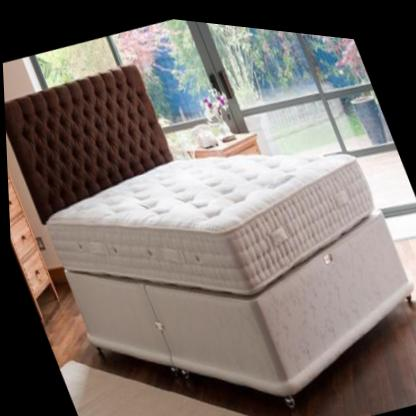Bed: (4, 61, 413, 391)
